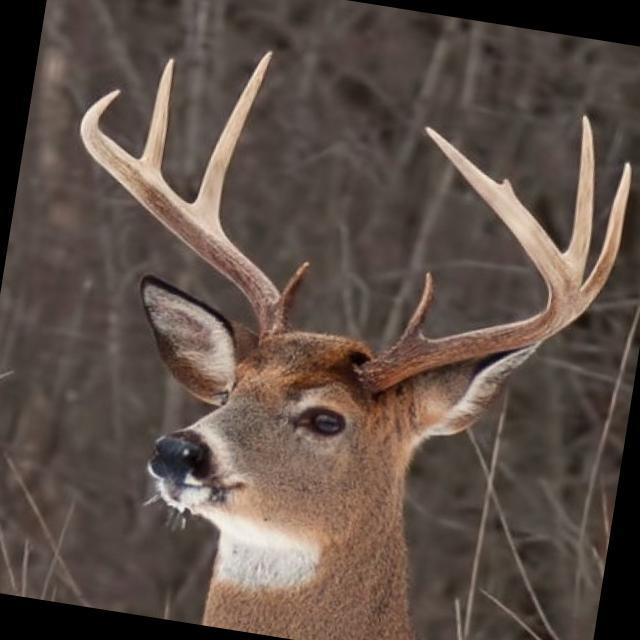L-F: (360, 126, 578, 394)
L-G1: (396, 271, 435, 345)
R-G1: (277, 261, 311, 318)
R-G2: (193, 52, 272, 222)
R-G3: (142, 58, 173, 169)
